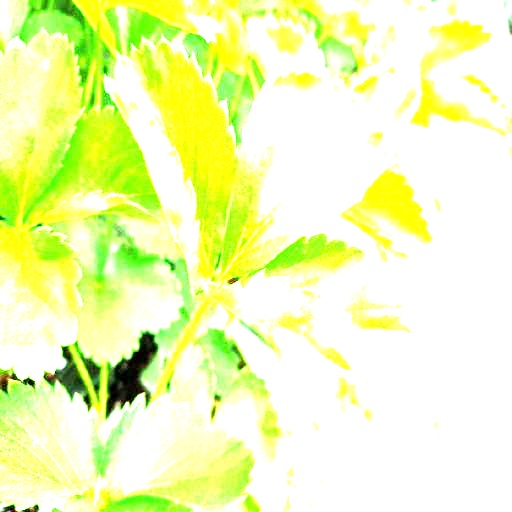Powdery Mildew Leaf: (219, 67, 393, 281), (102, 34, 241, 296), (200, 231, 422, 381)
